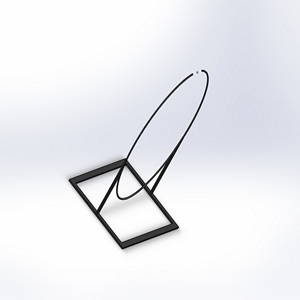circle: (67, 68, 210, 250)
